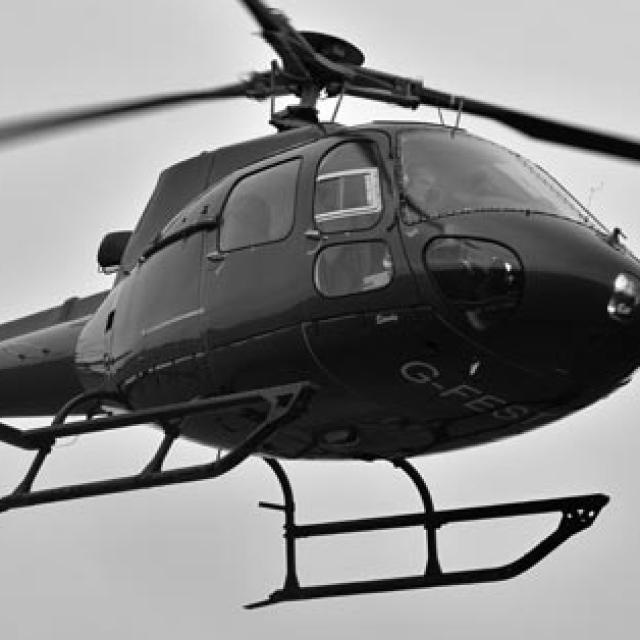helicopter: (1, 1, 640, 619)
